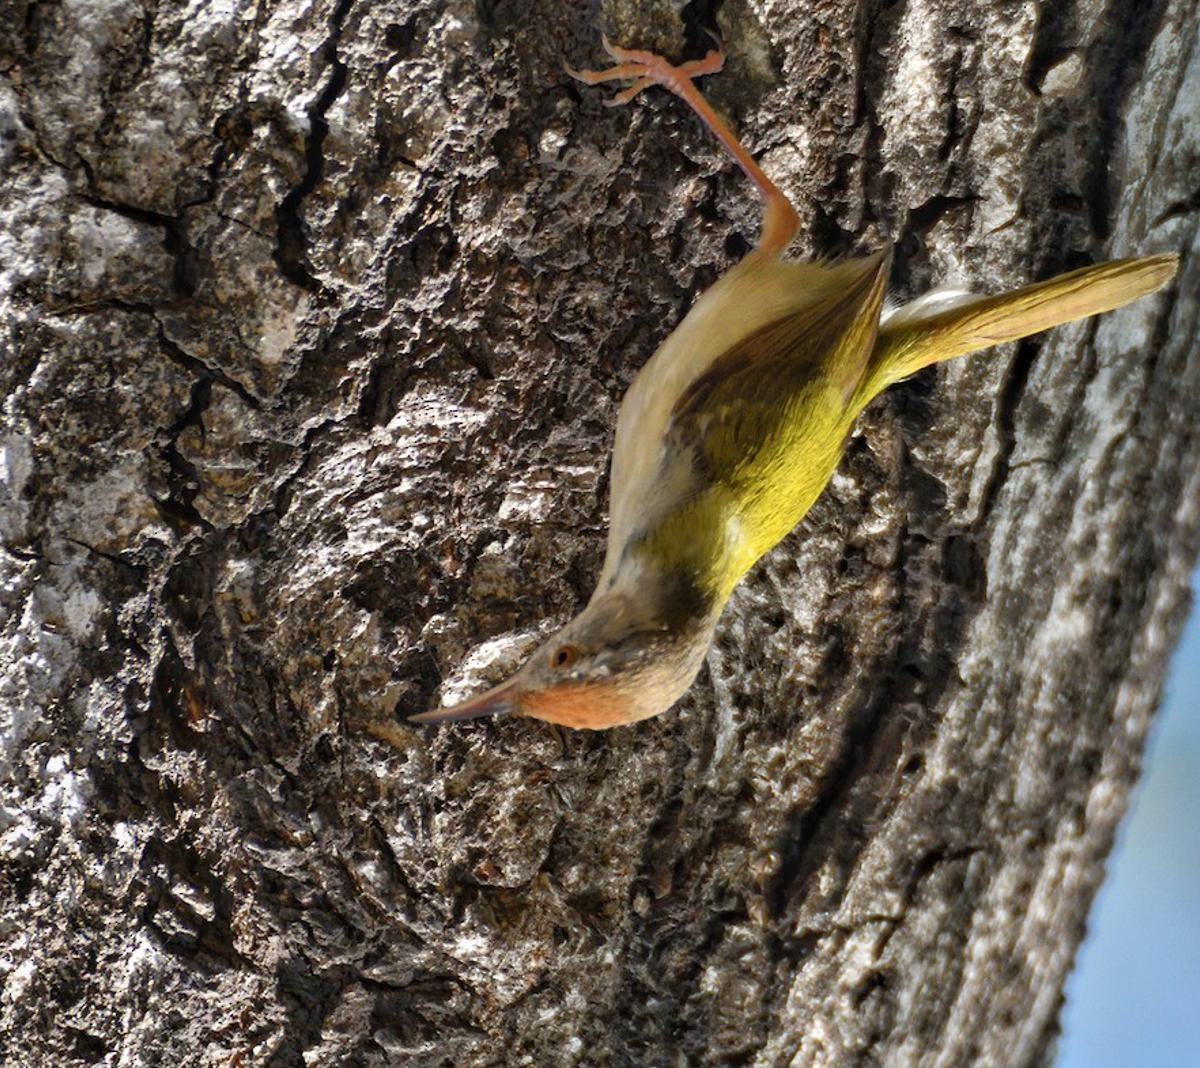tailorbird: (441, 186, 1184, 796)
